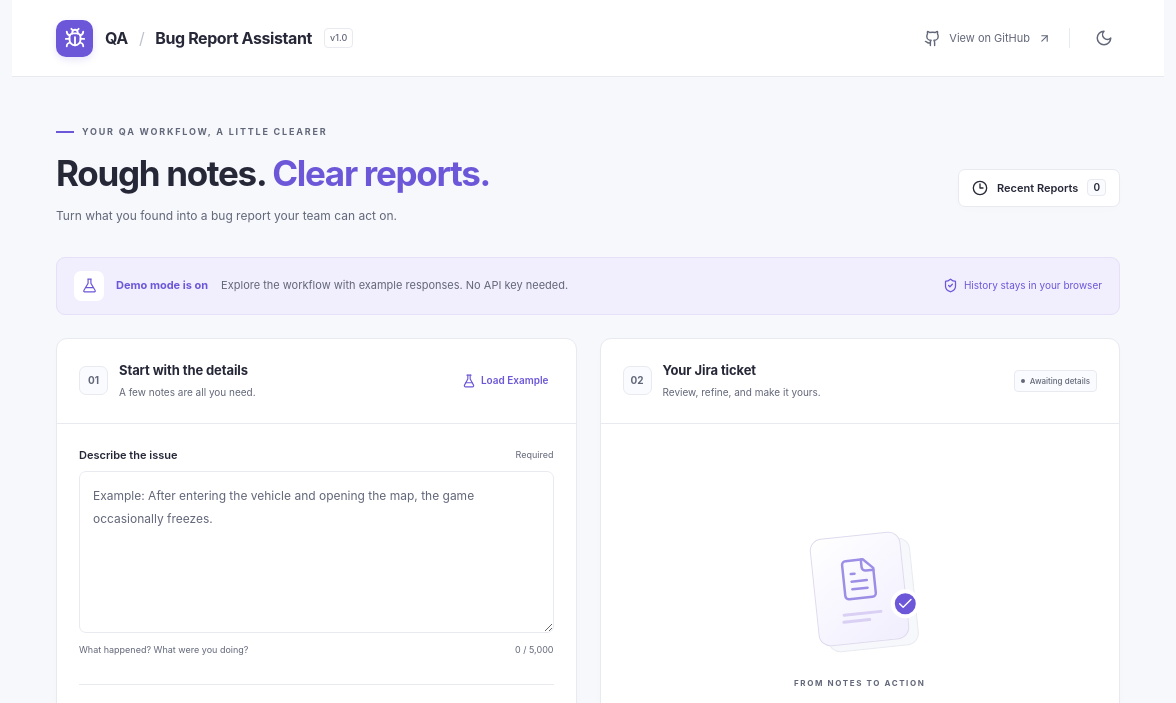
Test case: compatibility and exports › limits follow-up answer size in the UI
Click the button "Load Example". click: coordinates (505, 381)
box: [457, 368, 554, 393]
(page scrolled)
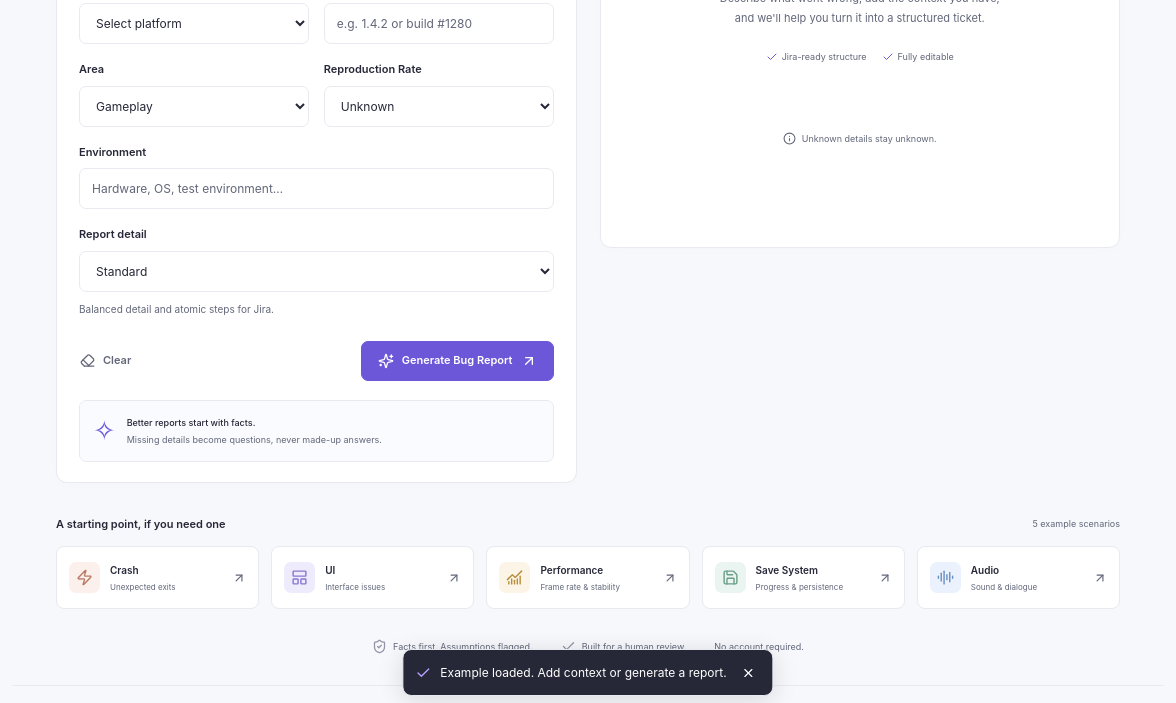
Click the button "Generate Bug Report". click: coordinates (457, 361)
box: [361, 341, 554, 381]
(page scrolled)
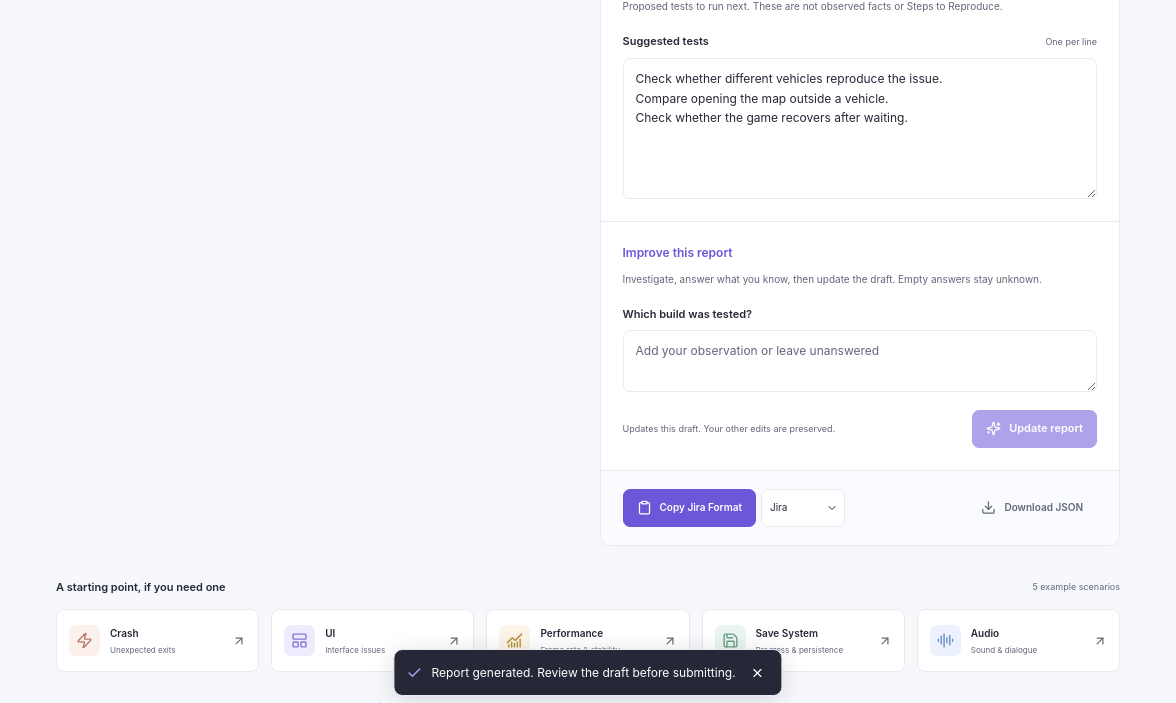
Type "0.8.24" into the text box labelled "Which build was tested?". click: coordinates (860, 361)
box: [622, 330, 1097, 392]
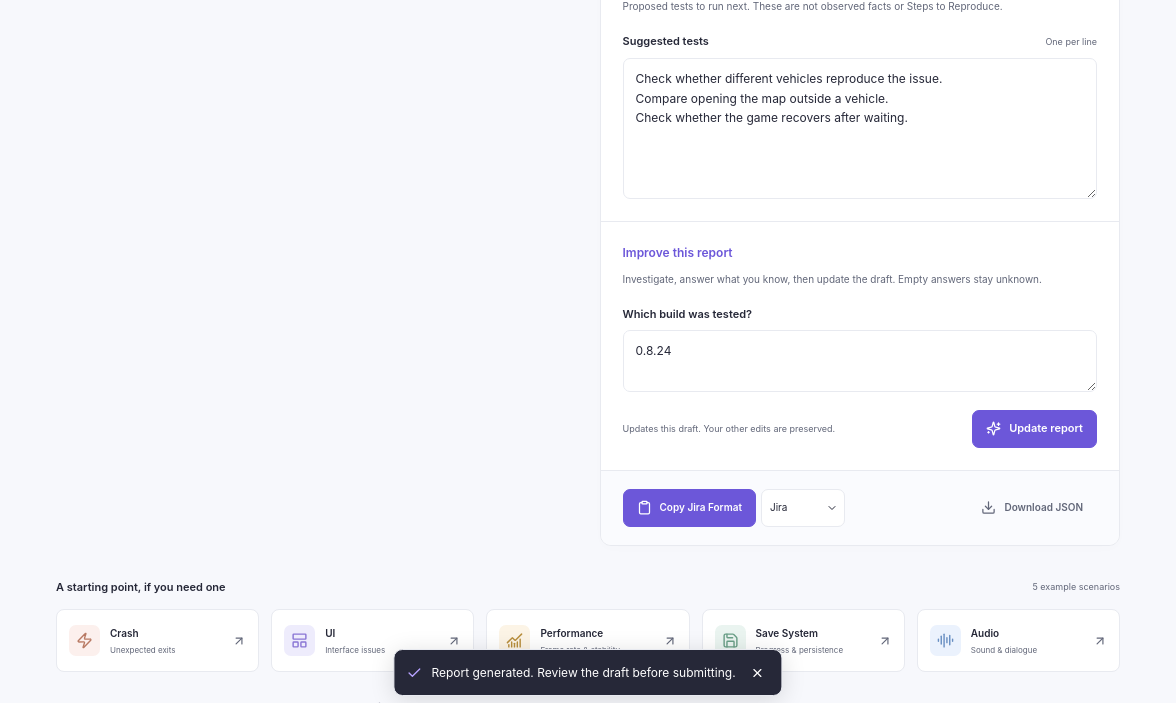
Now the button "Update report" is enabled, box [972, 410, 1097, 448]
